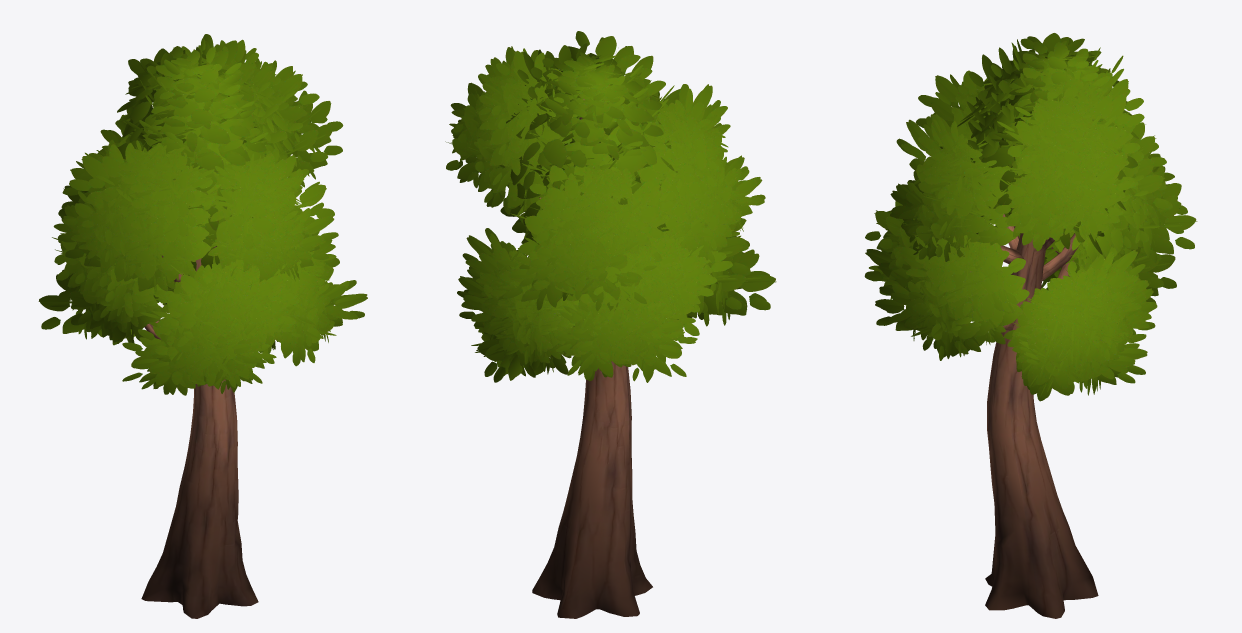
The model's file is qn-CommonTree_1.glb.
3 renders of one model, left to right at view 1: azimuth 30°, elevation 25°; view 2: azimuth 150°, elevation 25°; view 3: azimuth 270°, elevation 25°, orthographic. The views are drawn at different scales.
Visible parts, largest first — view 1: CommonTree_1; view 2: CommonTree_1; view 3: CommonTree_1.
Boxes of the visible parts, bbox=[...] form: CommonTree_1: bbox=[38, 34, 367, 618]; CommonTree_1: bbox=[445, 31, 776, 618]; CommonTree_1: bbox=[864, 33, 1197, 618].
Bounding box in the file's own units: 4.31 × 7.26 × 4.58.
2 materials, 2 textured.
